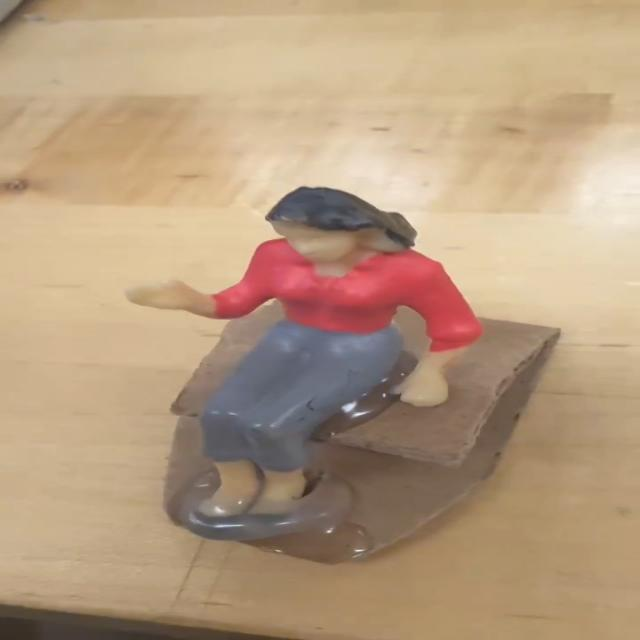Authorized: (109, 149, 538, 539)
